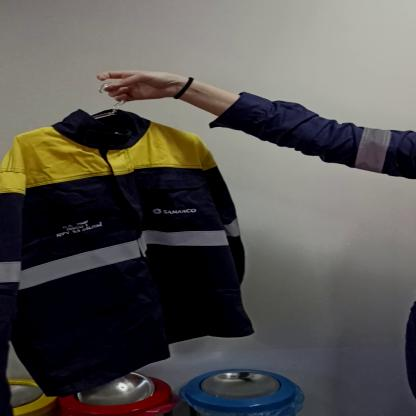C_eletrica: (0, 110, 256, 406)
